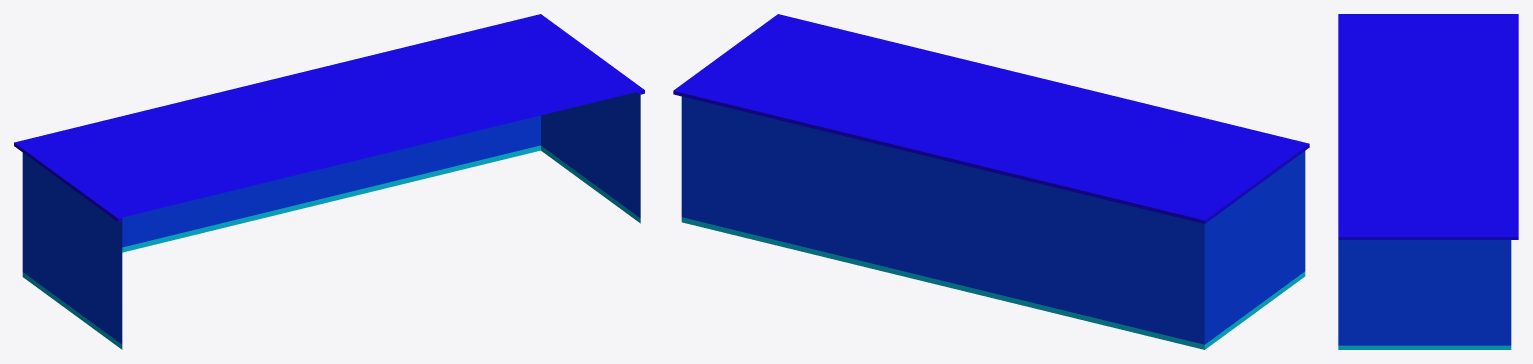
The model's file is Table_Kitchen.FBX.
3 views of the same model, side by side, from view 1: azimuth 30°, elevation 25°; view 2: azimuth 150°, elevation 25°; view 3: azimuth 270°, elevation 25° (orthographic). The views are drawn at different scales.
Parts seen in each view (by area): view 1: Table_A; view 2: Table_A; view 3: Table_A.
Boxes of the visible parts, left/top/right/bottom form: Table_A: left=14, top=14, right=644, bottom=349; Table_A: left=673, top=14, right=1309, bottom=349; Table_A: left=1338, top=14, right=1518, bottom=349.
Size of the model in its own units: 2.42 by 0.5803 by 0.8256.
